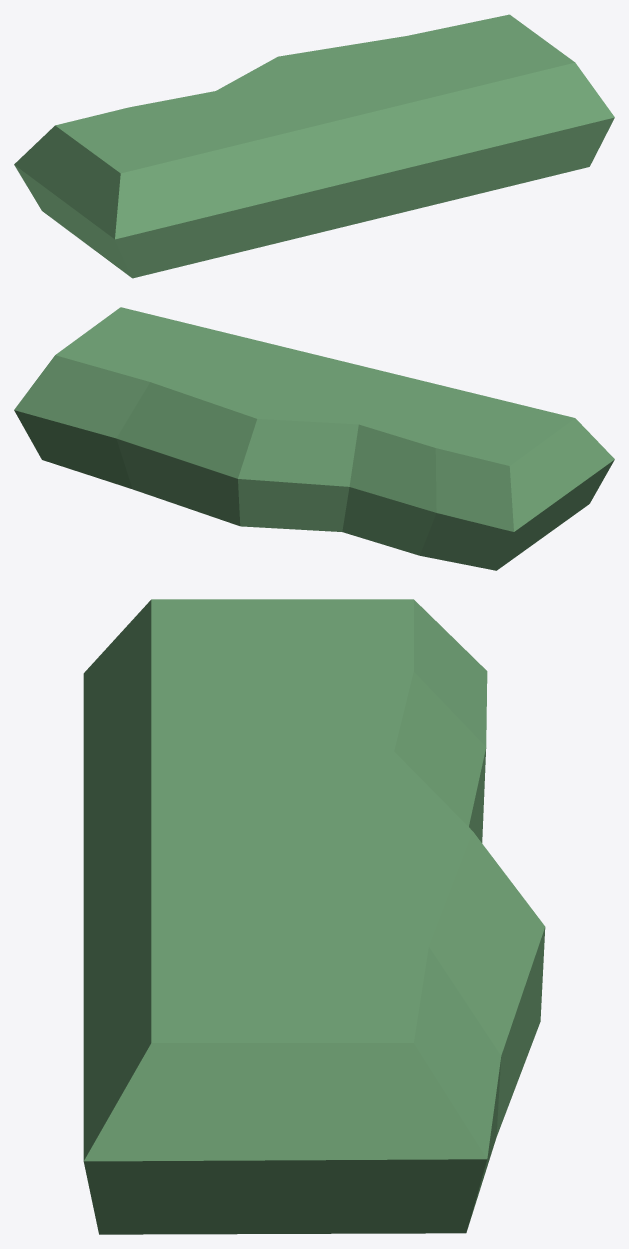
Rendered from GrassOverhang.fbx.
3 renders of one model, top to bottom at view 1: azimuth 30°, elevation 25°; view 2: azimuth 150°, elevation 25°; view 3: azimuth 270°, elevation 25°, orthographic. The views are drawn at different scales.
Parts seen in each view (by area): view 1: Overhang; view 2: Overhang; view 3: Overhang.
Part boxes in pixels (box(x1,y1,x2,y2)): Overhang: box(14, 14, 614, 278); Overhang: box(14, 307, 614, 570); Overhang: box(83, 599, 545, 1234).
Size of the model in its own units: 1.1 by 0.2 by 0.4397.
